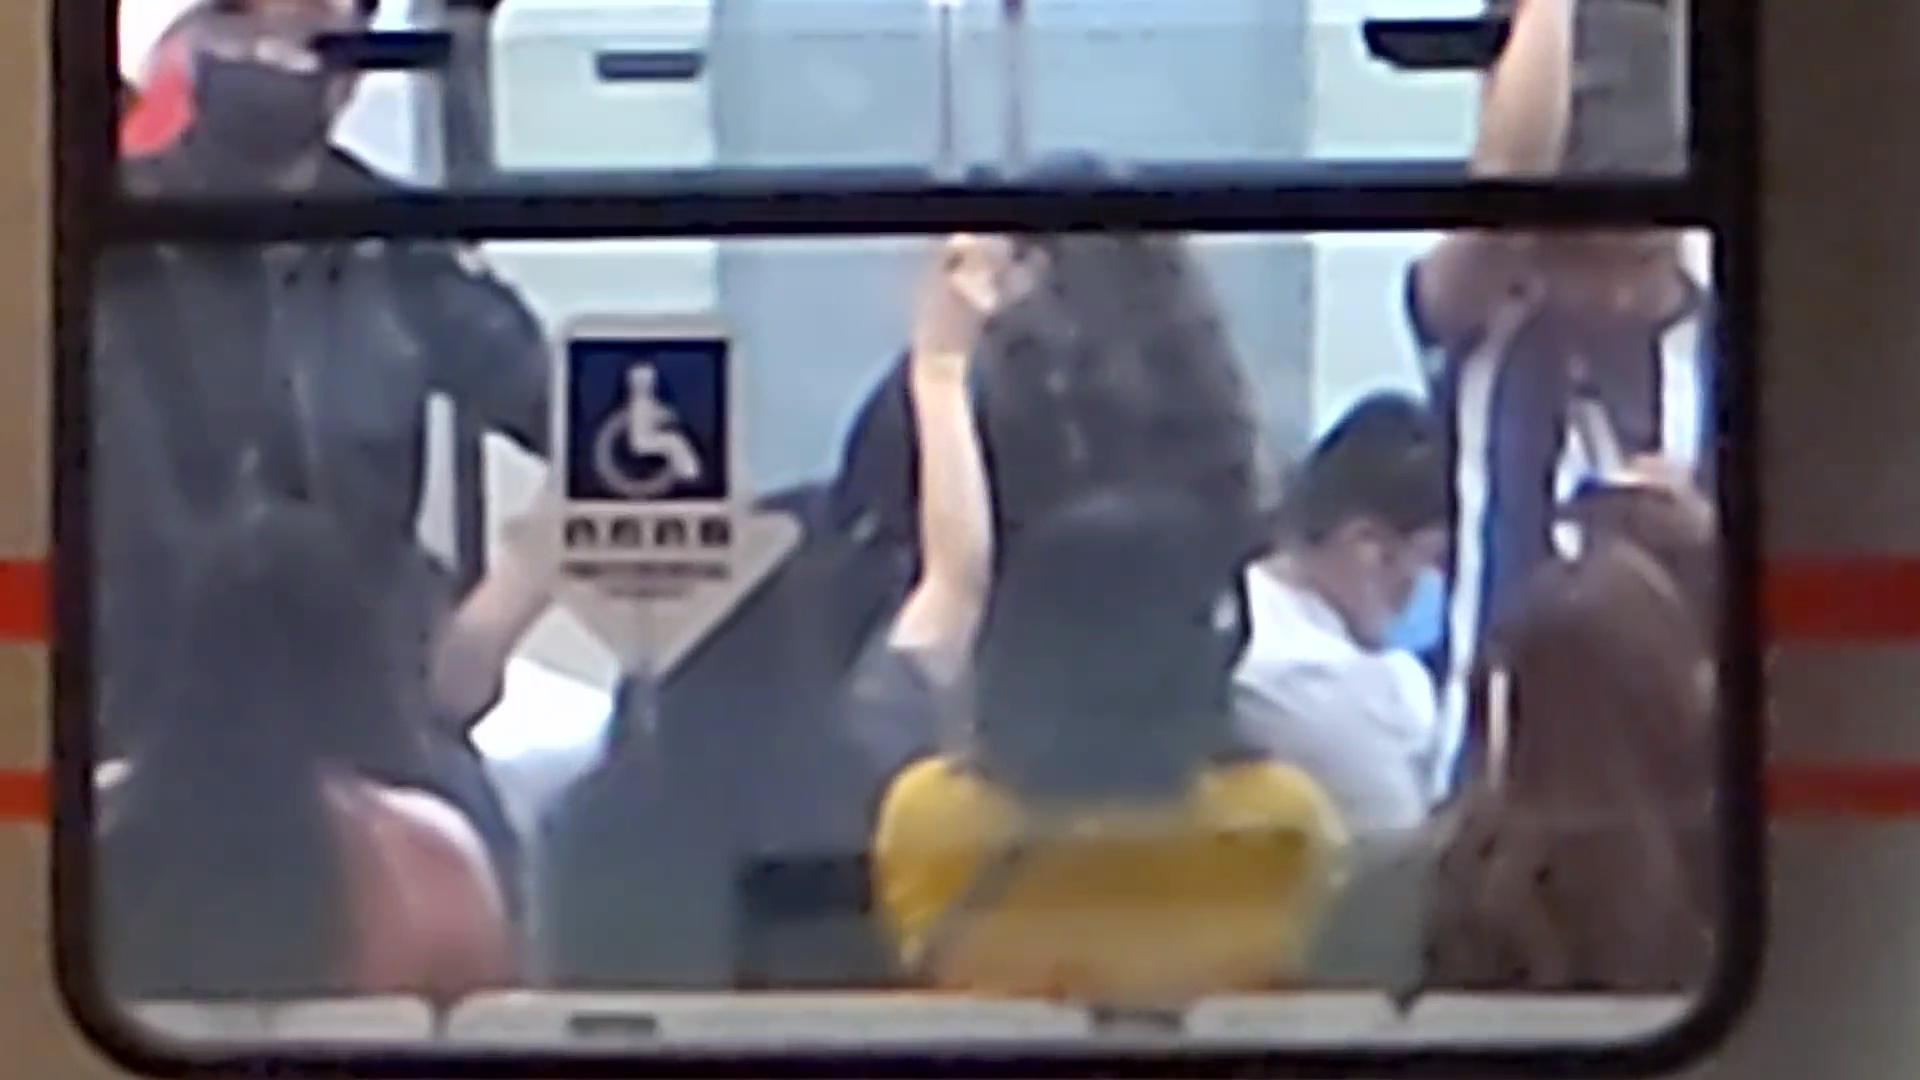handicapped symbol: (592, 360, 702, 497)
